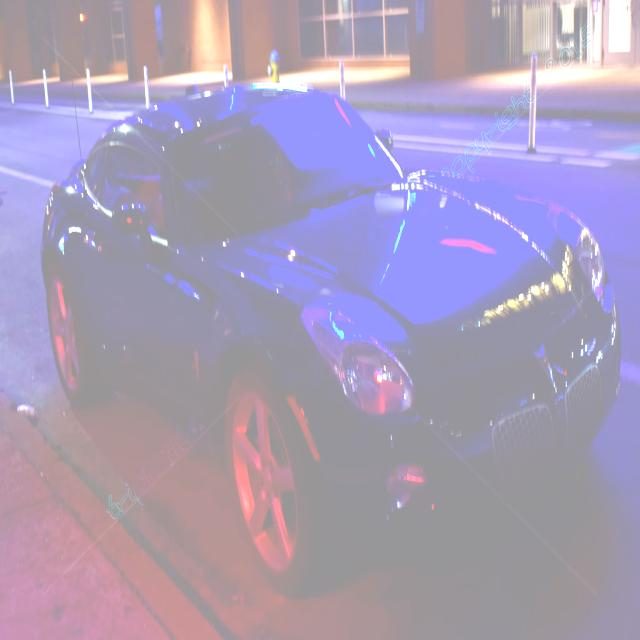Car: (38, 82, 621, 596)
